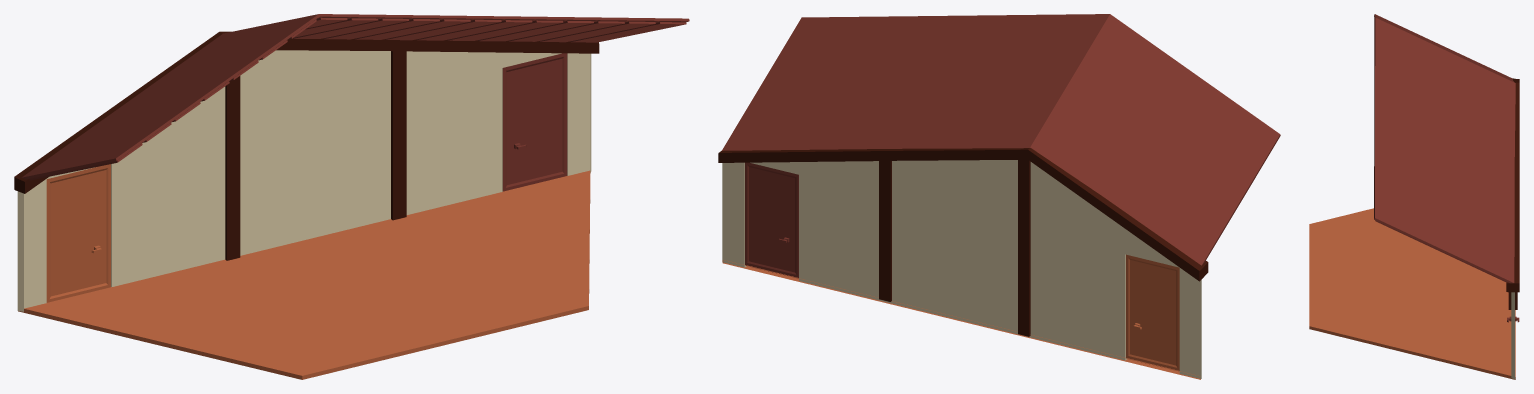
The model's file is MDL_Bedroom_01.fbx.
3 views of the same model, side by side, from view 1: azimuth 30°, elevation 25°; view 2: azimuth 150°, elevation 25°; view 3: azimuth 270°, elevation 25° (orthographic). The views are drawn at different scales.
Visible parts, largest first — view 1: MDL_Bedroom_Wall, MDL_Bedroom_Floor, MDL_Bedroom_Roof, MDL_Bedroom_Planks_01, MDL_Bedroom_Door_01, MDL_Bedroom_Door_02; view 2: MDL_Bedroom_Roof, MDL_Bedroom_Wall, MDL_Bedroom_Planks_01, MDL_Bedroom_Door_02, MDL_Bedroom_Door_01, MDL_Bedroom_Floor; view 3: MDL_Bedroom_Roof, MDL_Bedroom_Floor, MDL_Bedroom_Planks_01, MDL_Bedroom_Wall.
Boxes of the visible parts, x1=… form: MDL_Bedroom_Wall: x1=17, y1=50, x2=591, y2=311; MDL_Bedroom_Floor: x1=18, y1=170, x2=590, y2=379; MDL_Bedroom_Roof: x1=22, y1=14, x2=689, y2=180; MDL_Bedroom_Planks_01: x1=14, y1=31, x2=599, y2=260; MDL_Bedroom_Door_01: x1=502, y1=53, x2=567, y2=191; MDL_Bedroom_Door_02: x1=46, y1=164, x2=110, y2=302; MDL_Bedroom_Roof: x1=722, y1=14, x2=1280, y2=265; MDL_Bedroom_Wall: x1=722, y1=160, x2=1201, y2=378; MDL_Bedroom_Planks_01: x1=718, y1=148, x2=1208, y2=336; MDL_Bedroom_Door_02: x1=1126, y1=254, x2=1179, y2=371; MDL_Bedroom_Door_01: x1=745, y1=162, x2=798, y2=278; MDL_Bedroom_Floor: x1=722, y1=260, x2=1200, y2=379; MDL_Bedroom_Roof: x1=1374, y1=14, x2=1515, y2=283; MDL_Bedroom_Floor: x1=1309, y1=208, x2=1515, y2=379; MDL_Bedroom_Planks_01: x1=1506, y1=78, x2=1519, y2=309; MDL_Bedroom_Wall: x1=1511, y1=292, x2=1514, y2=379.
Bounding box in the file's own units: 1039 × 548 × 450.
